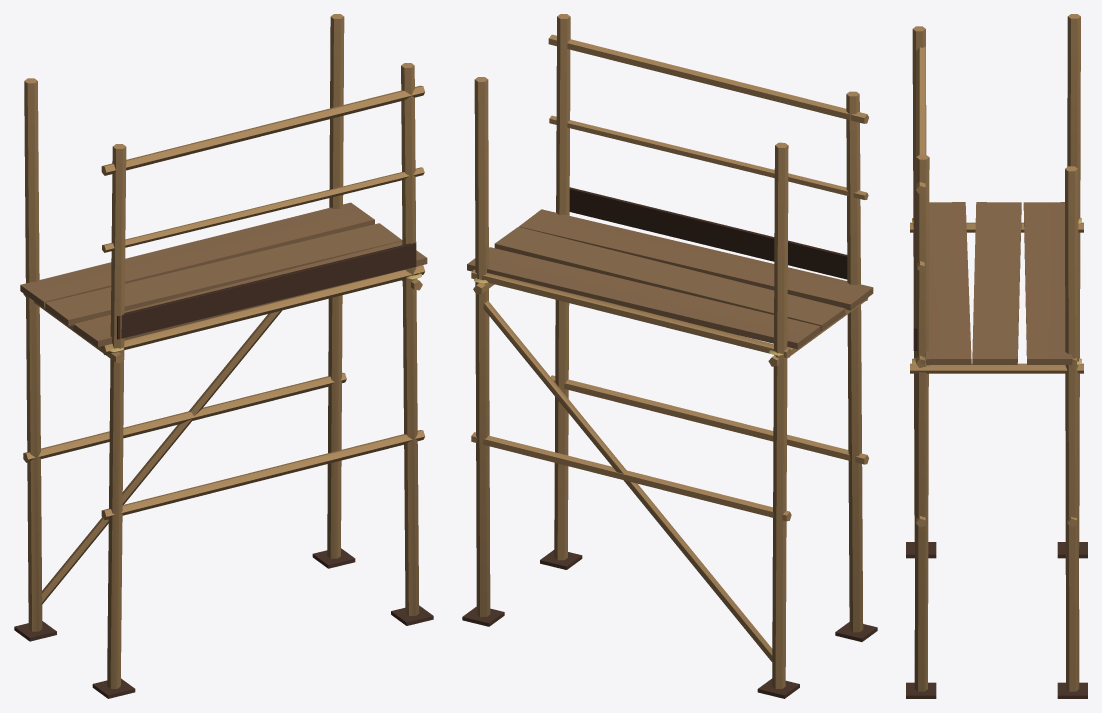
The model's file is scaffold_bay.glb.
The picture shows the model from 3 angles, left to right: view 1: azimuth 30°, elevation 25°; view 2: azimuth 150°, elevation 25°; view 3: azimuth 270°, elevation 25°; orthographic projection. The views are drawn at different scales.
Parts seen in each view (by area): view 1: scaffold_bay; view 2: scaffold_bay; view 3: scaffold_bay.
Part boxes in pixels (left/top/right/bottom): scaffold_bay: left=14, top=14, right=433, bottom=698; scaffold_bay: left=462, top=14, right=877, bottom=698; scaffold_bay: left=906, top=14, right=1087, bottom=698.
Bounding box in the file's own units: 1.96 × 3.11 × 0.96.
